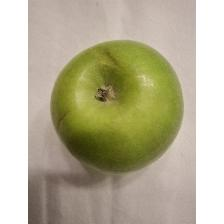Apfel: (48, 36, 185, 176)
